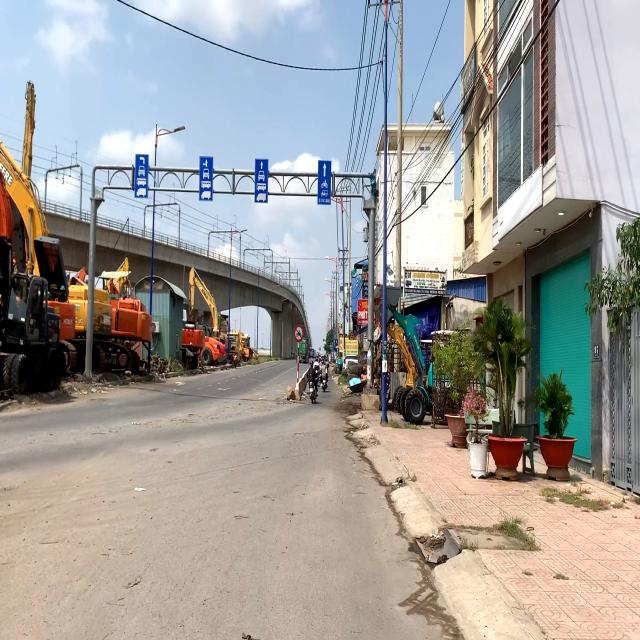P.104: (294, 324, 304, 342)
